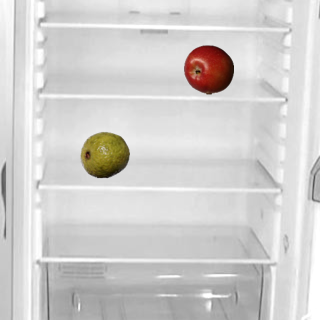Apple Braeburn: (183, 44, 233, 94)
Guava: (79, 129, 129, 179)
